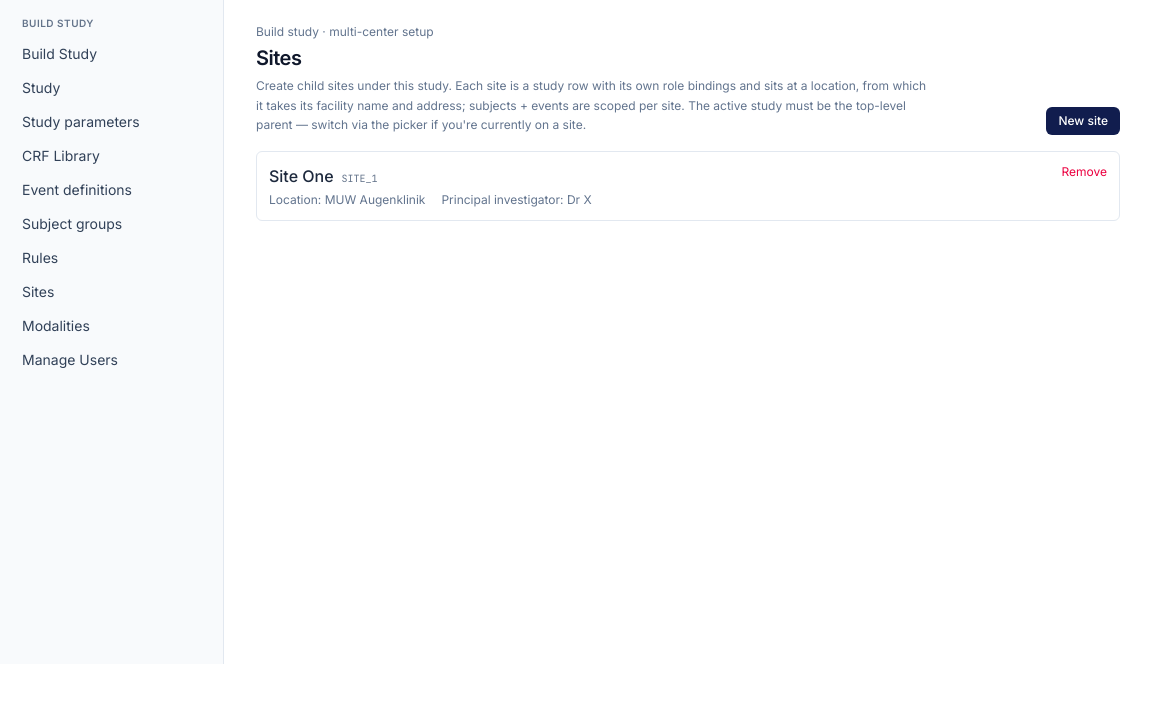
Test: SitesView create › no longer asks for the facility name and city; the contact e-mail stays
Click the button "New site" at (1083, 120), box [1046,106,1120,134]
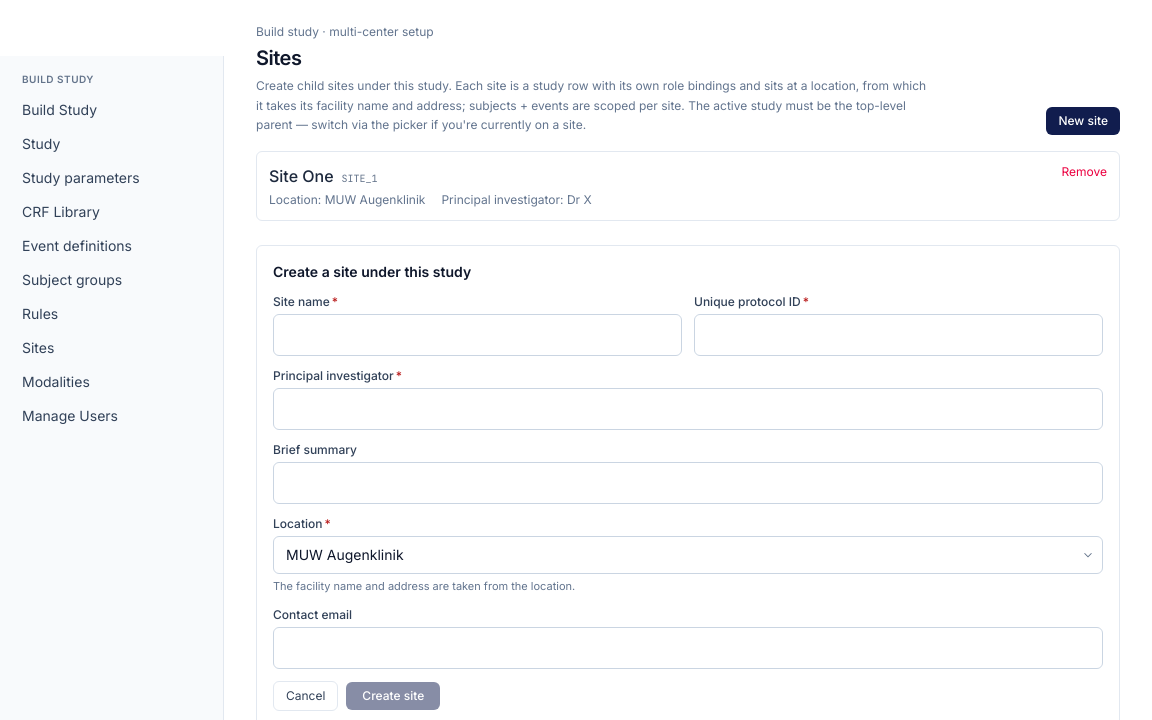
Now the field with id "site-fac-email" is shown, box [273,627,1103,669]
